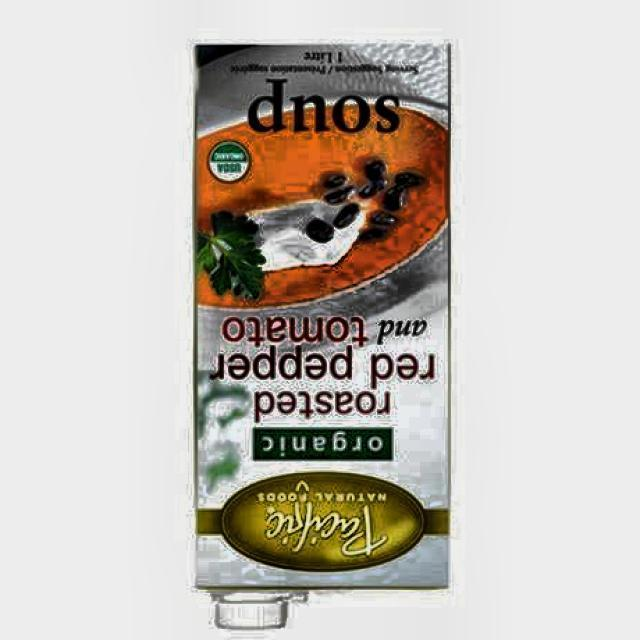cardboard: (193, 43, 452, 608)
